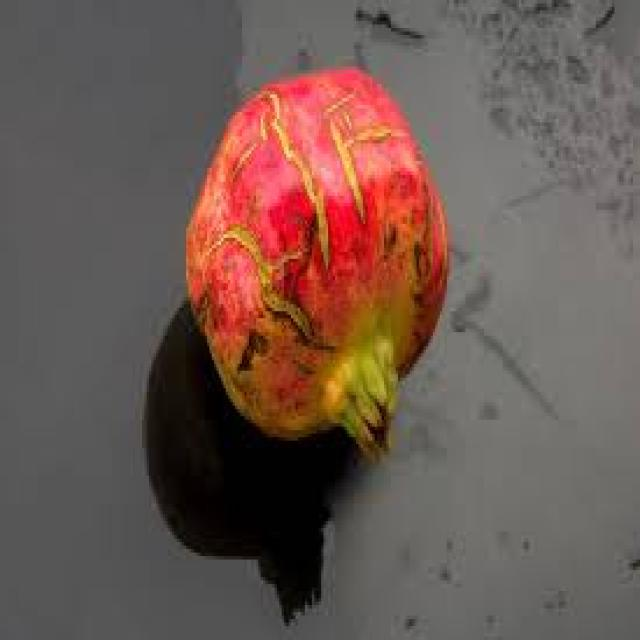overripe: (180, 61, 451, 464)
